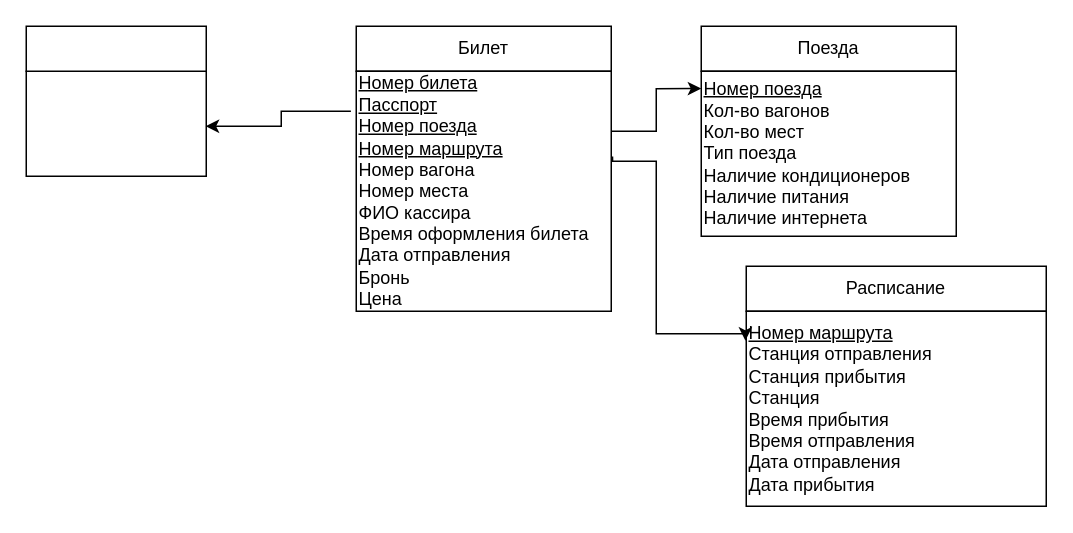
This 1073x533 diagram has some shape labels left out. The centre of each missing label's shape, as x and y in pixels:
"Пассажиры" belongs at point 115,48.
"ФИО Пасспорт Дата рождения" belongs at point 115,123.
